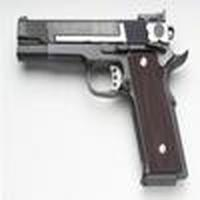gun: (18, 18, 200, 193)
